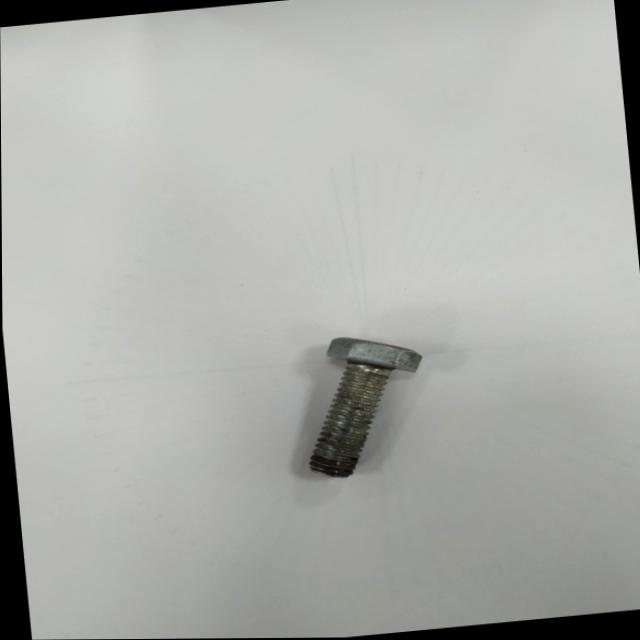Bolt: (309, 337, 421, 477)
